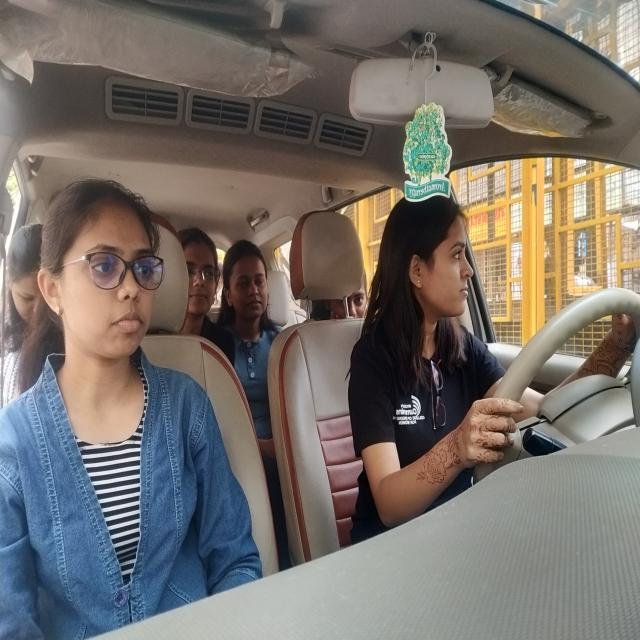LeftRight: (385, 194, 476, 338)
person: (40, 183, 168, 378), (177, 219, 222, 336), (7, 224, 48, 344), (226, 232, 268, 349), (309, 288, 368, 319)
